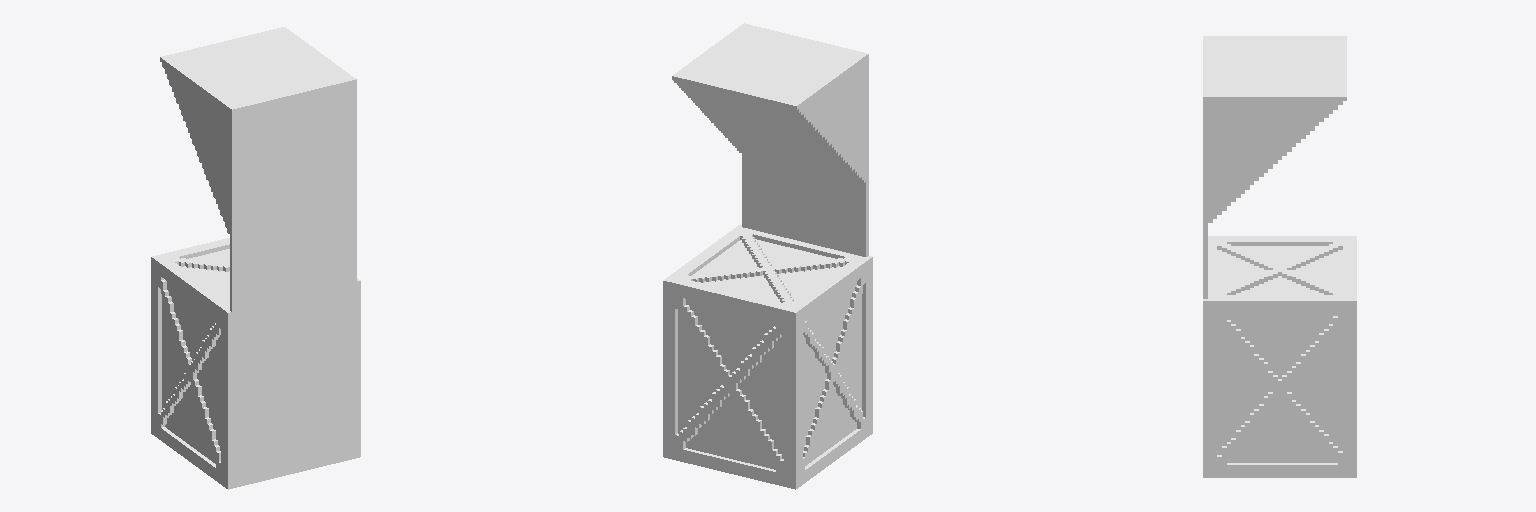
File: Wallbox.obj
3 renders of one model, left to right at view 1: azimuth 30°, elevation 25°; view 2: azimuth 150°, elevation 25°; view 3: azimuth 270°, elevation 25°, orthographic.
Visible parts, largest first — view 1: object 1; view 2: object 1; view 3: object 1.
Boxes of the visible parts, <box> form: object 1: <box>151,27,360,489</box>; object 1: <box>663,23,872,489</box>; object 1: <box>1203,36,1356,477</box>.
Bounding box in the file's own units: 3.3 × 9 × 3.3.